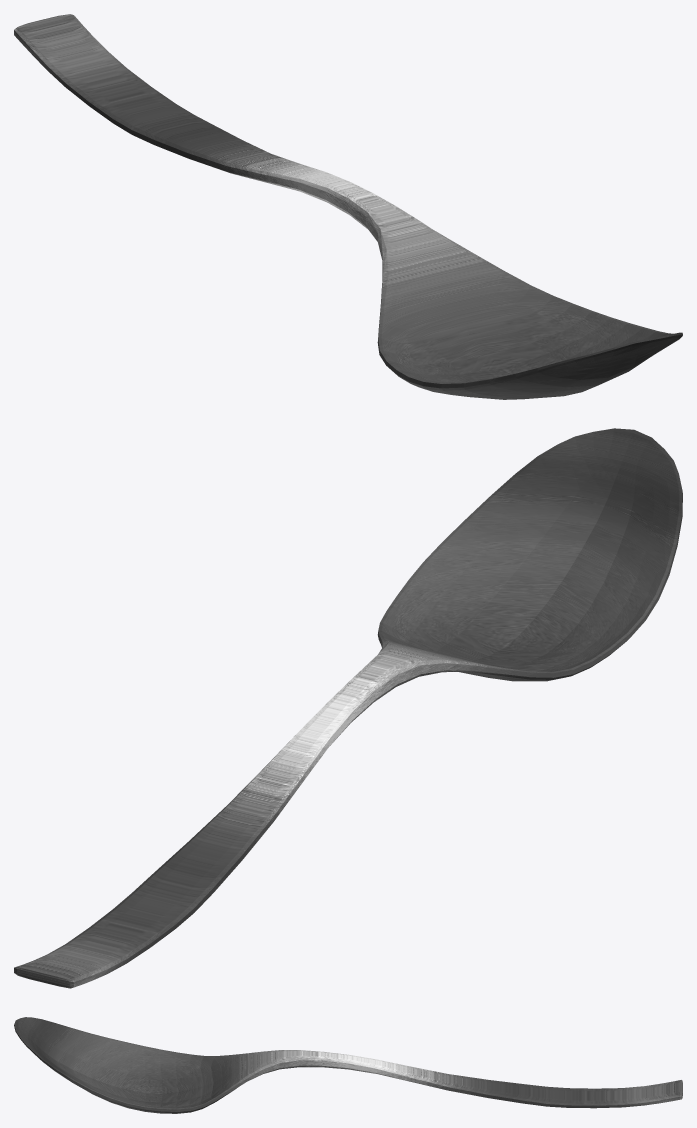
The model's file is Spoon.obj.
3 views of the same model, one above another, from view 1: azimuth 30°, elevation 25°; view 2: azimuth 150°, elevation 25°; view 3: azimuth 270°, elevation 25° (orthographic). The views are drawn at different scales.
Parts seen in each view (by area): view 1: spoon; view 2: spoon; view 3: spoon.
Part boxes in pixels (<box>): spoon: <box>14,14,682,399</box>; spoon: <box>14,428,682,988</box>; spoon: <box>14,1017,682,1113</box>.
Bounding box in the file's own units: 0.4461 × 0.2593 × 2.05.
